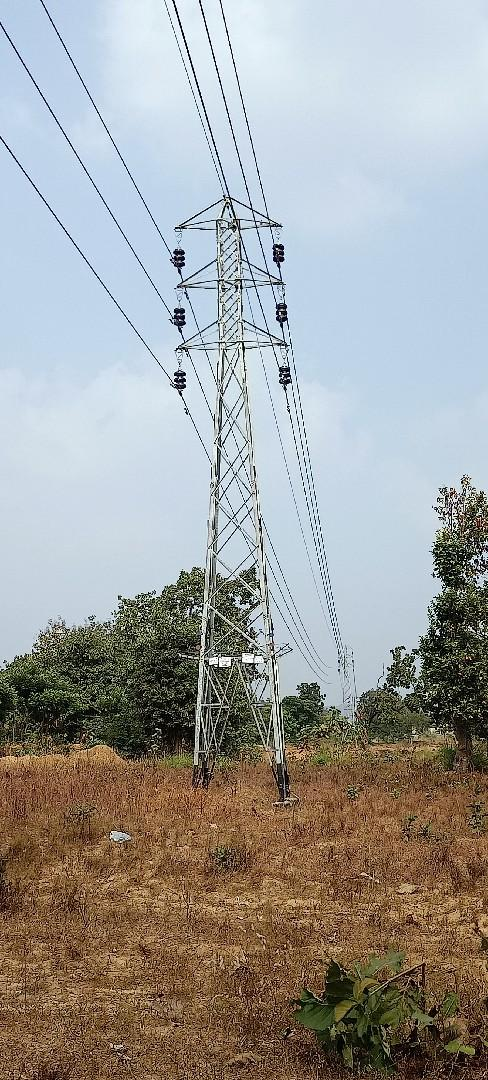GSM Antenna: (166, 190, 298, 751)
